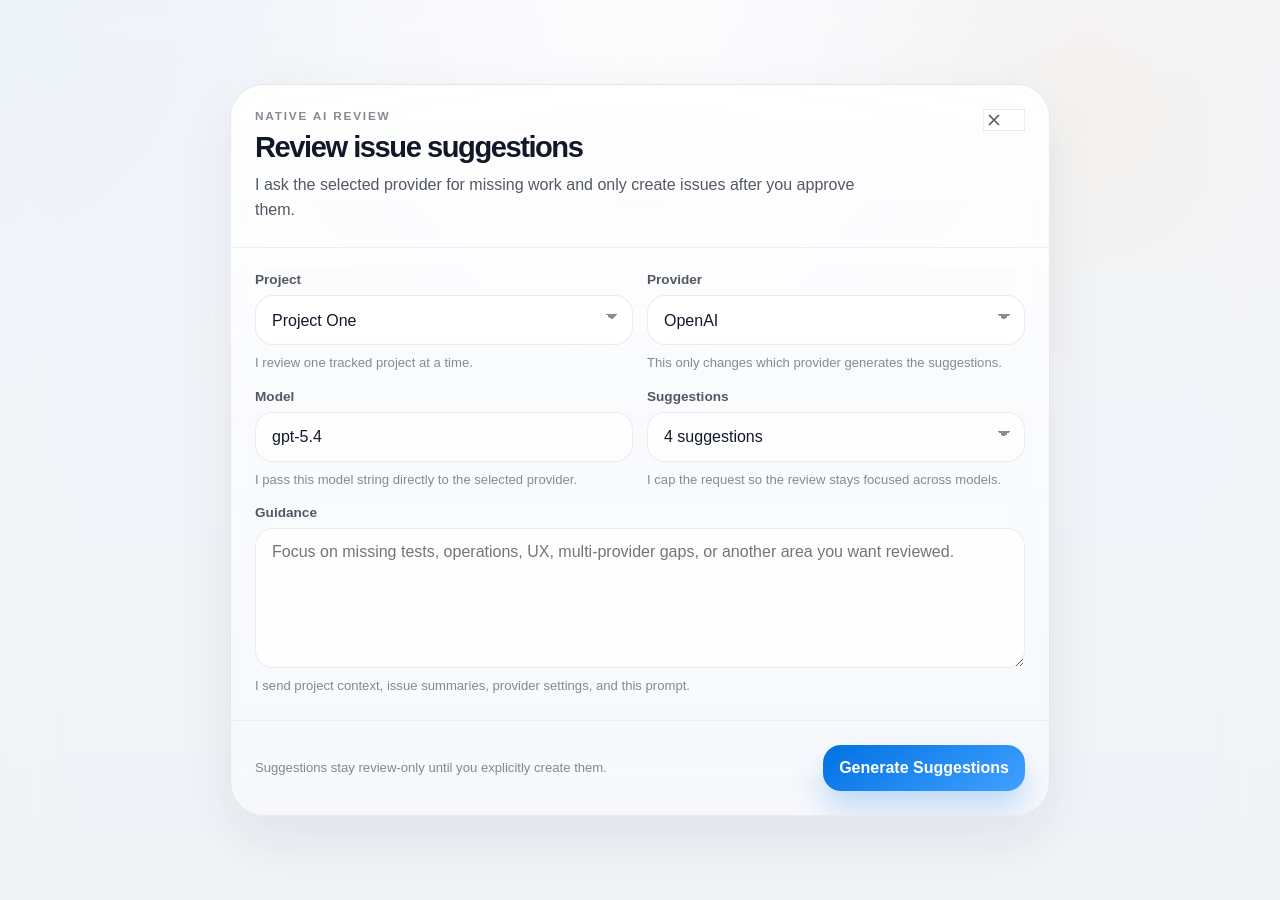
it: SuggestIssuesModal › clears stale suggestions when I change the selected provider
Click the button "Generate Suggestions".
click(924, 768)  # box [823,745,1025,791]
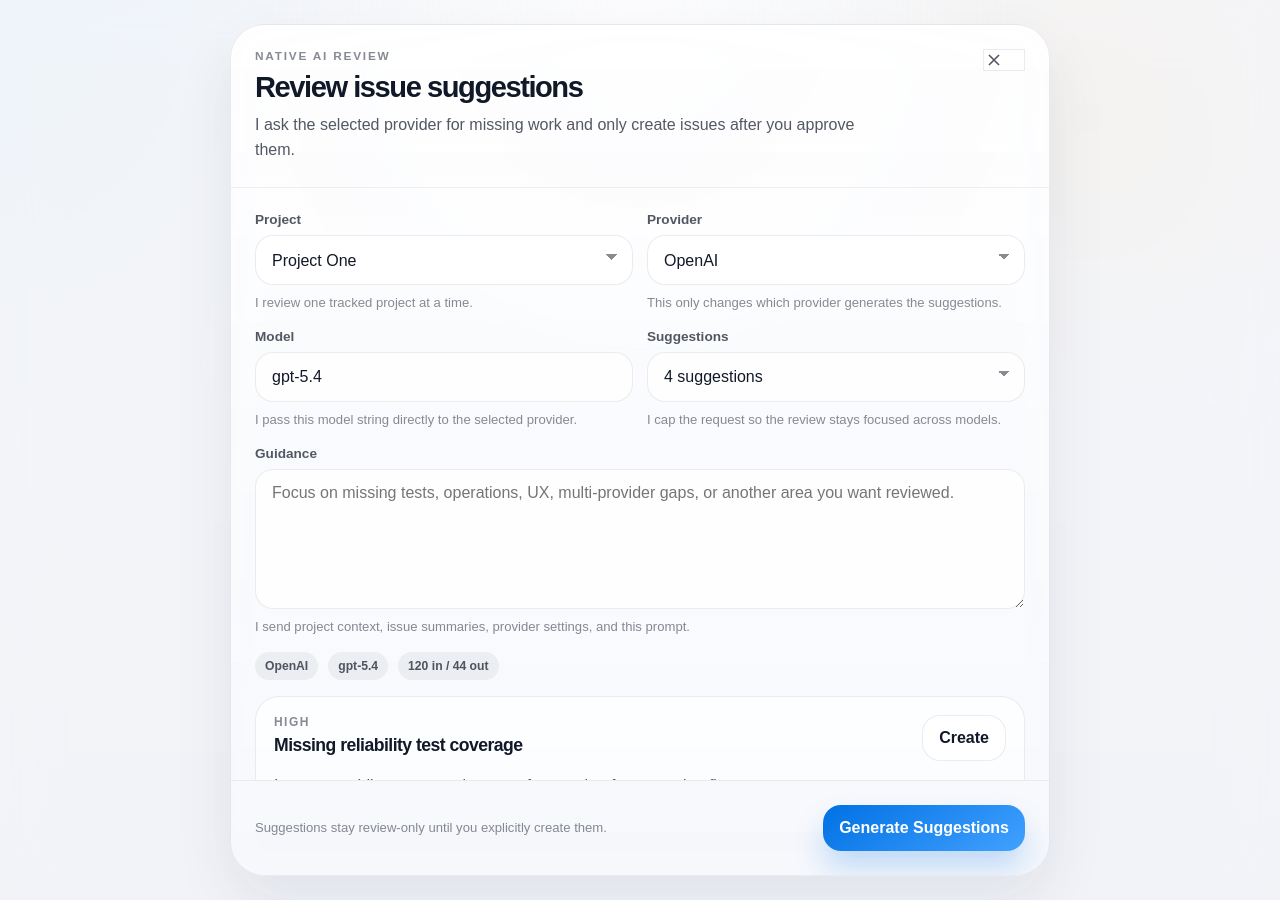
Check: the heading "Missing reliability test coverage" is shown, box [274,735,522,756]
Select "Anthropic" in the dropdown labelled "Provider" at (836, 260), box [647,235,1025,285]
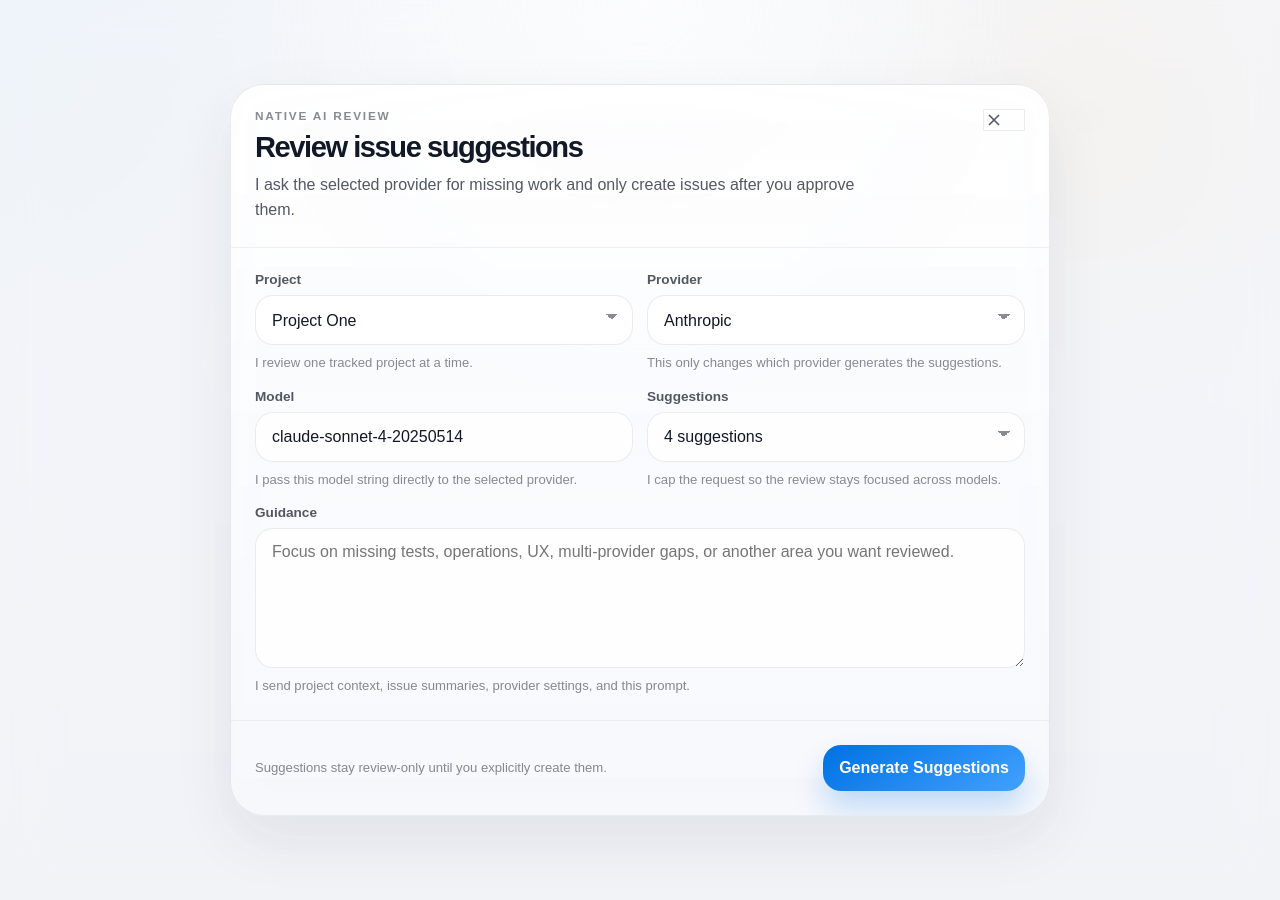
Check: the heading "Missing reliability test coverage" is gone
Check: the field labelled "Model" holds "claude-sonnet-4-20250514", box [255,412,633,462]
